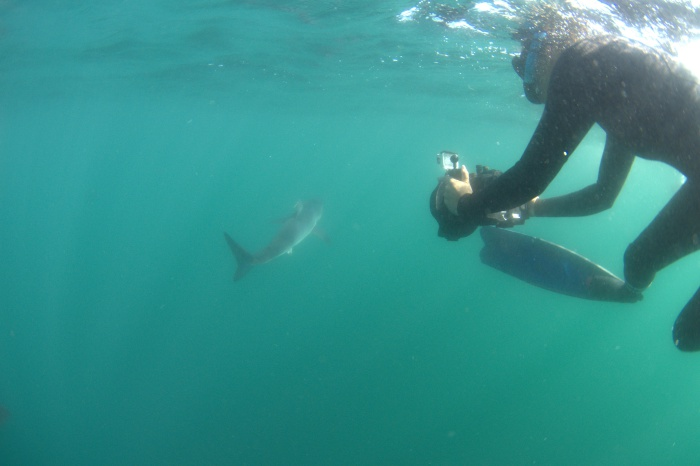Mako: (181, 195, 370, 296)
